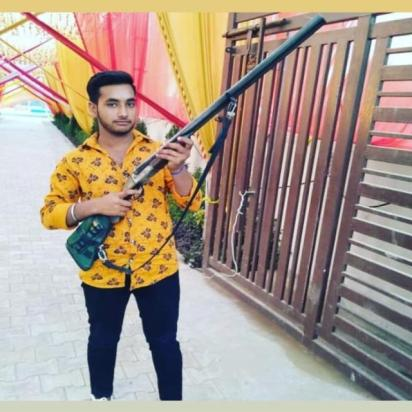Gun: (63, 12, 328, 273)
